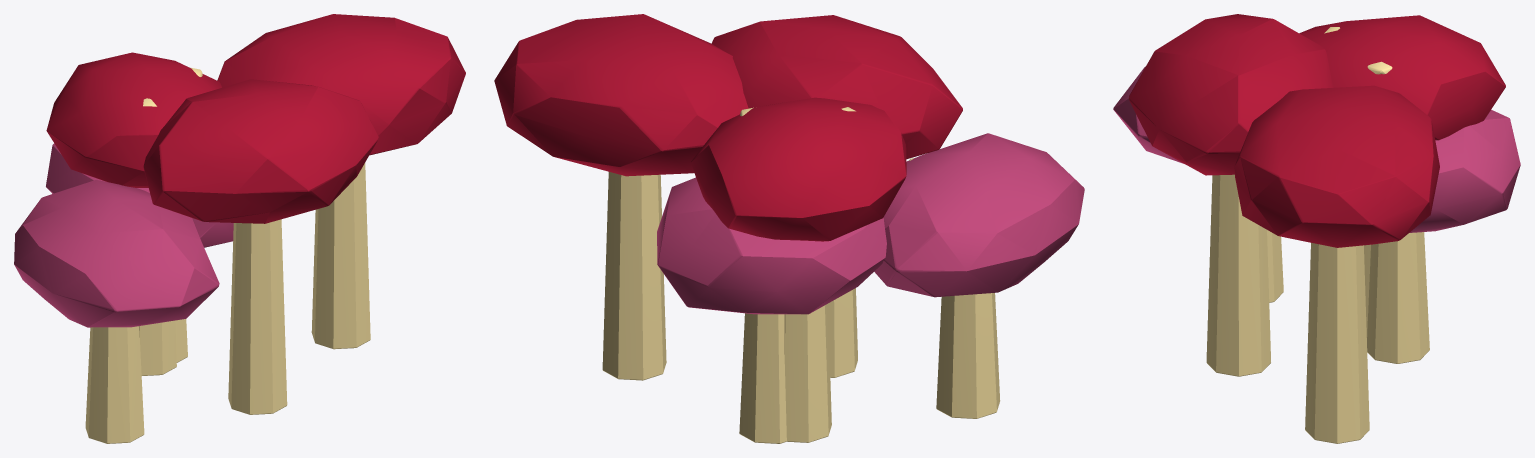
File: plant_mushroom_lod1.glb
3 renders of one model, left to right at view 1: azimuth 30°, elevation 25°; view 2: azimuth 150°, elevation 25°; view 3: azimuth 270°, elevation 25°, orthographic. The views are drawn at different scales.
Visible parts, largest first — view 1: Mushroom ivory stem.001; view 2: Mushroom ivory stem.001; view 3: Mushroom ivory stem.001.
Boxes of the visible parts, x1=… form: Mushroom ivory stem.001: x1=14, y1=14, x2=465, y2=443; Mushroom ivory stem.001: x1=494, y1=14, x2=1084, y2=443; Mushroom ivory stem.001: x1=1113, y1=14, x2=1520, y2=443.
Size of the model in its own units: 0.7778 by 0.4981 by 0.5608.
